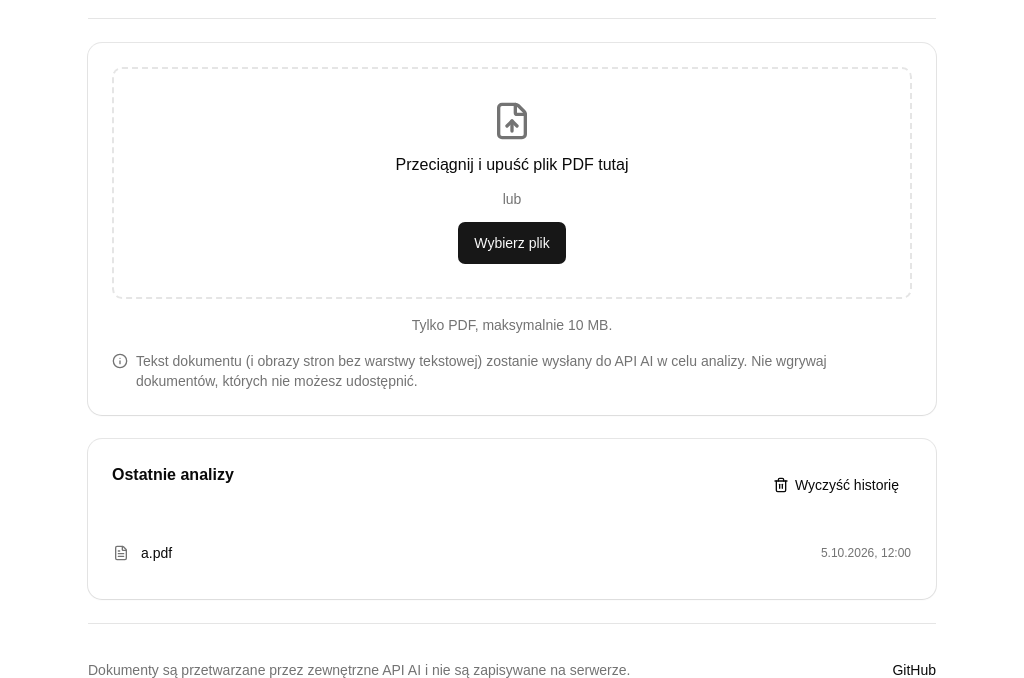
App › restores a result from the history and clears the history
Click the button "a.pdf 5.10.2026, 12:00" at {"x": 157, "y": 553}, box [104,531,920,575]
(page scrolled)
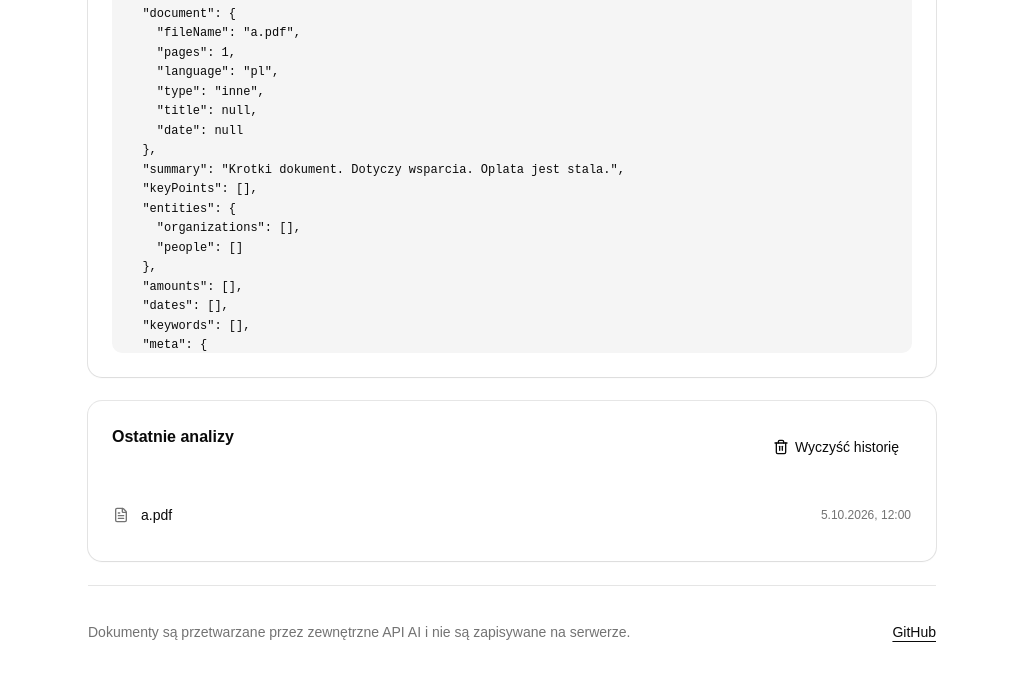
Click the button "Wyczyść historię" at {"x": 836, "y": 447}, box [760,425,912,469]
(page scrolled)
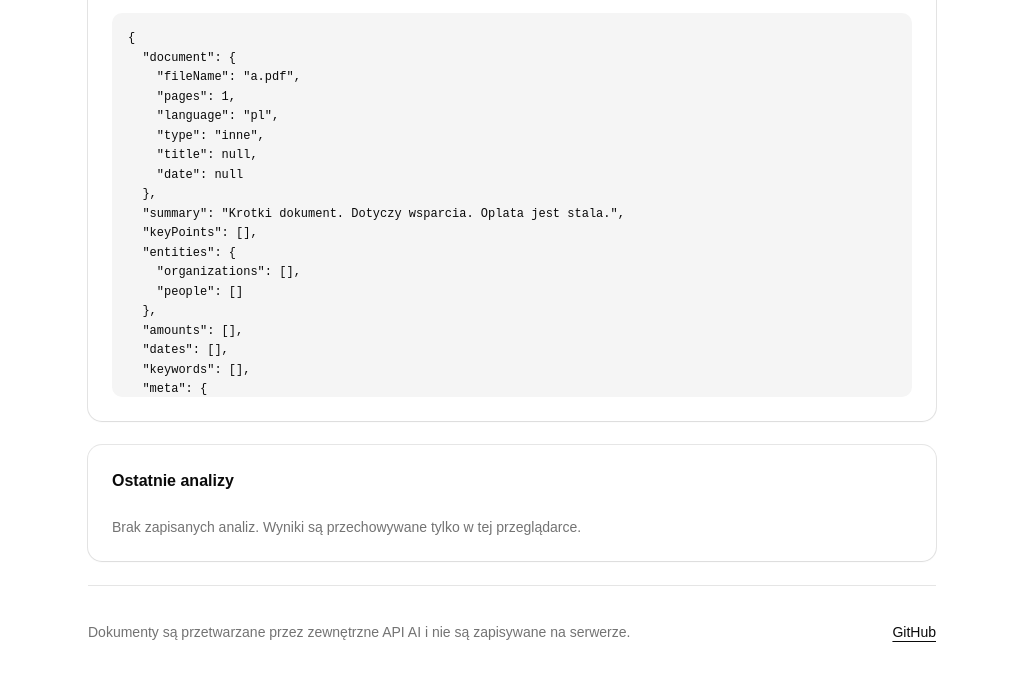
Check: the text "Brak zapisanych analiz" is shown, box [112,519,581,535]
